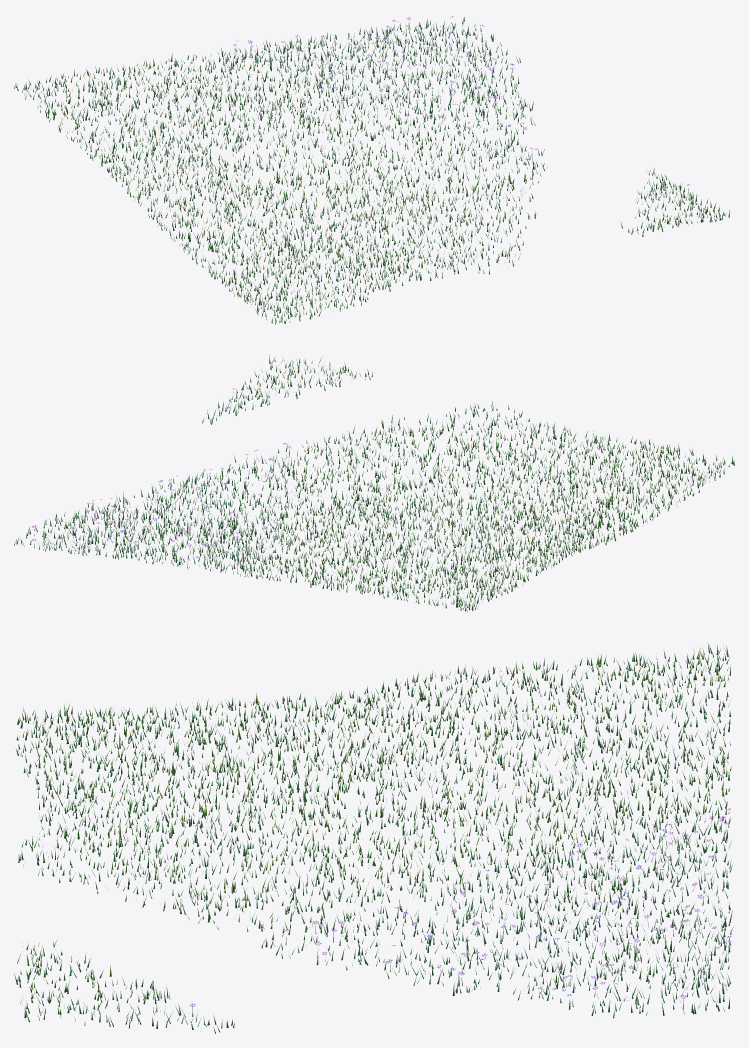
The picture shows the model from 3 angles, top to bottom: view 1: azimuth 30°, elevation 25°; view 2: azimuth 150°, elevation 25°; view 3: azimuth 270°, elevation 25°; orthographic projection. The views are drawn at different scales.
Parts seen in each view (by area): view 1: gc_9; view 2: gc_9; view 3: gc_9.
Part boxes in pixels (x1,y1,x2,y2): gc_9: (14, 16, 729, 324); gc_9: (14, 355, 734, 612); gc_9: (14, 643, 734, 1033).
Bounding box in the file's own units: 18.19 × 2.57 × 18.17.
Materials: 1 (1 with a texture image).
